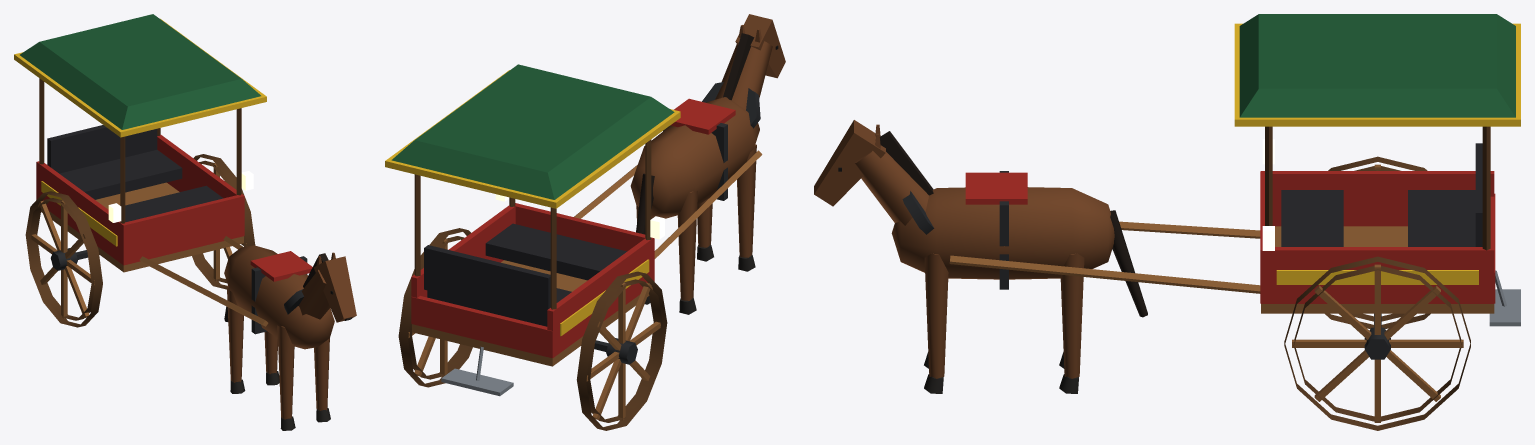
File: delman.glb
The picture shows the model from 3 angles, left to right: view 1: azimuth 30°, elevation 25°; view 2: azimuth 150°, elevation 25°; view 3: azimuth 270°, elevation 25°; orthographic projection. The views are drawn at different scales.
Parts seen in each view (by area): view 1: body, wheel_r, wheel_l, leg_fr, leg_rr, leg_fl, leg_rl; view 2: body, wheel_r, wheel_l, leg_rr, leg_fr, leg_fl; view 3: body, wheel_l, leg_fl, leg_rl, wheel_r.
Boxes of the visible parts, bbox=[...] form: body: bbox=[14, 14, 356, 349]; wheel_r: bbox=[25, 191, 102, 327]; wheel_l: bbox=[192, 154, 255, 289]; leg_fr: bbox=[277, 325, 295, 430]; leg_rr: bbox=[227, 286, 245, 393]; leg_fl: bbox=[314, 338, 330, 422]; leg_rl: bbox=[264, 331, 279, 385]; body: bbox=[385, 14, 785, 396]; wheel_r: bbox=[576, 271, 667, 430]; wheel_l: bbox=[398, 228, 472, 387]; leg_rr: bbox=[677, 191, 697, 314]; leg_fr: bbox=[737, 144, 756, 271]; leg_fl: bbox=[697, 197, 713, 261]; body: bbox=[814, 14, 1520, 327]; wheel_l: bbox=[1284, 256, 1470, 430]; leg_fl: bbox=[924, 253, 948, 393]; leg_rl: bbox=[1059, 253, 1084, 393]; wheel_r: bbox=[1325, 156, 1430, 328].
Size of the model in its own units: 1.7 by 2.33 by 4.54.
